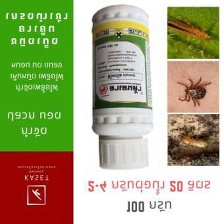insecticide: (89, 1, 158, 172)
